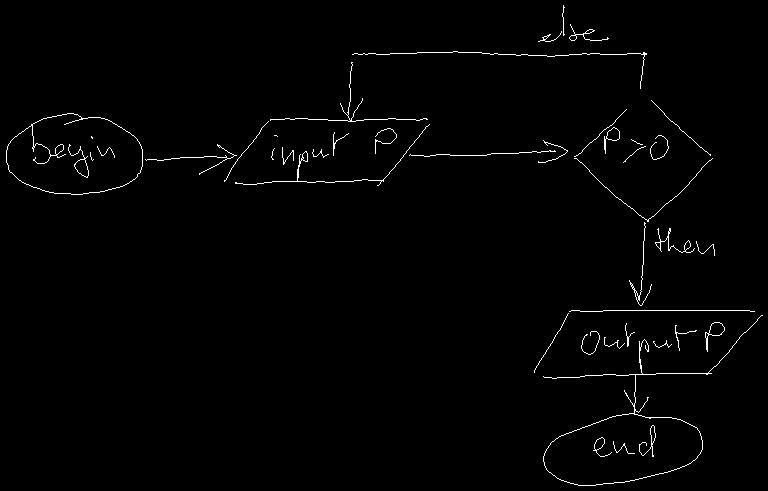arrow: (340, 51, 646, 120), (409, 140, 567, 162), (145, 144, 236, 174), (629, 222, 651, 305), (624, 375, 648, 414)
data: (534, 310, 762, 378), (224, 118, 429, 185)
decision: (574, 100, 712, 221)
terminator: (543, 413, 702, 485), (6, 113, 142, 194)
text: (581, 322, 724, 373), (271, 128, 396, 180), (31, 124, 114, 177), (538, 5, 608, 41), (604, 127, 668, 162), (593, 425, 655, 456), (655, 228, 714, 255)
